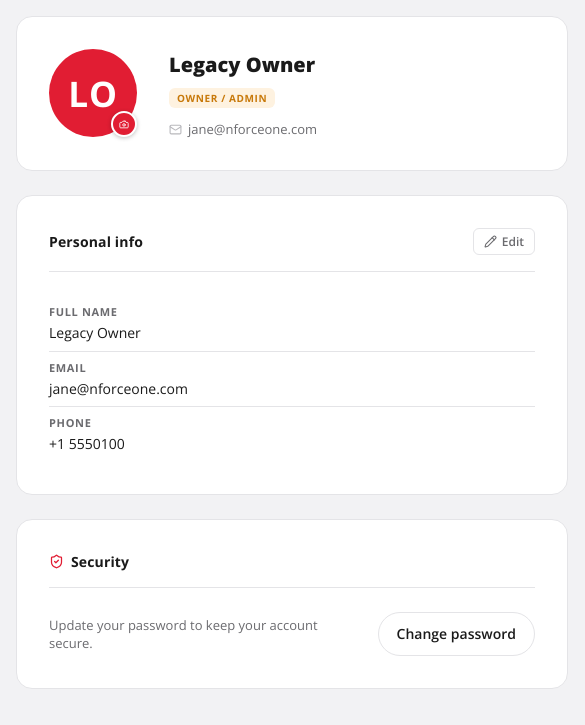
Test case: Profile personal info section — Owner/Admin and Super Admin phone › reads a legacy plain-digit owner phone without losing digits
Expected: the heading "Legacy Owner" is shown, [169, 51, 315, 78]
Click the button with aria-label "edit personal info" at (504, 242), box [473, 228, 535, 255]
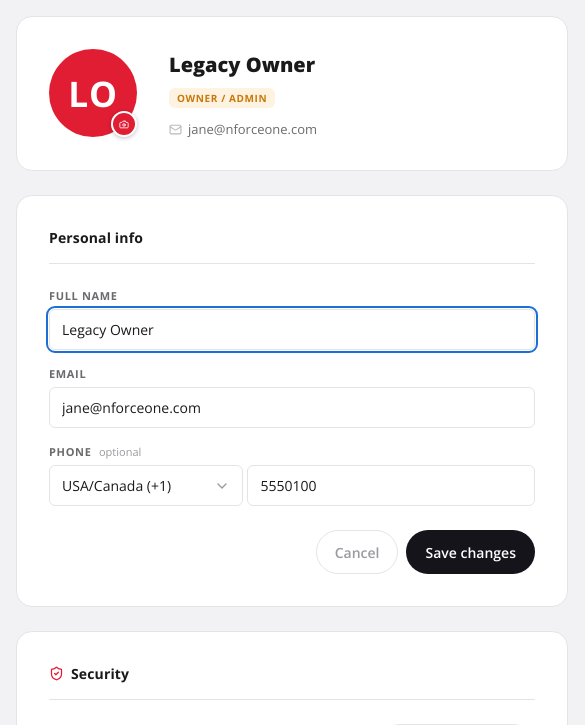
Result: the field labelled "Phone optional" holds "5550100" at [247, 465, 535, 506]
